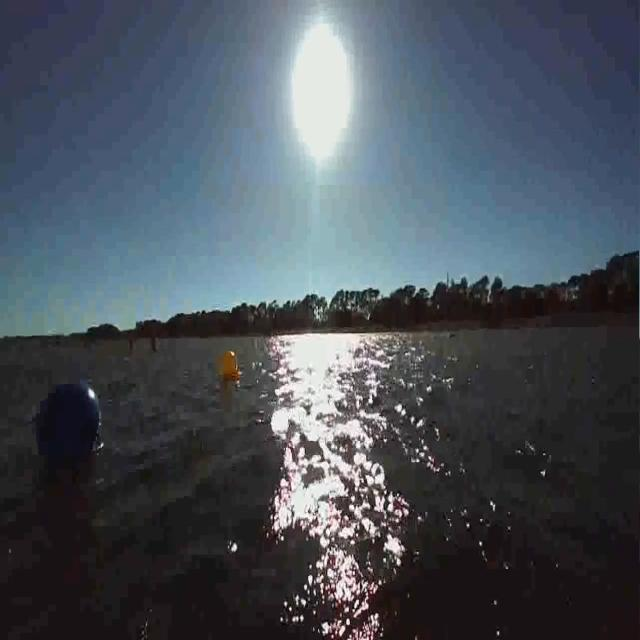blue-buoy: (30, 378, 103, 472)
yellow-buoy: (219, 349, 241, 381)
